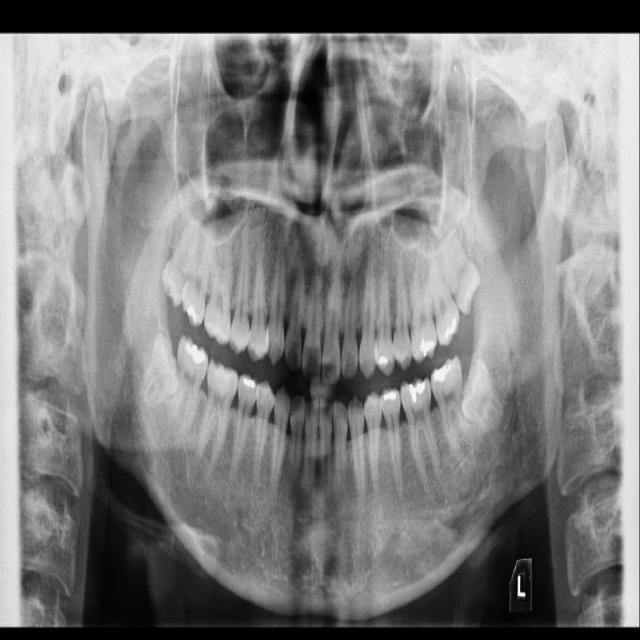3M ESPE Implant: (155, 212, 206, 308)
52: (167, 331, 220, 382), (429, 300, 470, 351), (423, 355, 469, 400), (173, 281, 213, 331), (407, 324, 441, 363), (400, 375, 432, 412), (373, 343, 396, 379), (235, 373, 260, 406), (380, 388, 401, 419)
73: (586, 563, 588, 572)
BioHorizons Implant: (425, 246, 465, 347)
BioLife Implant: (429, 225, 494, 317)
Biomet 3i Implant: (446, 355, 509, 437)
Blue Sky Bio Implant: (428, 354, 473, 451)
Caries: (178, 228, 218, 329)
Implant: (168, 331, 212, 436)
Keystone Dental Implant: (135, 327, 194, 414)
